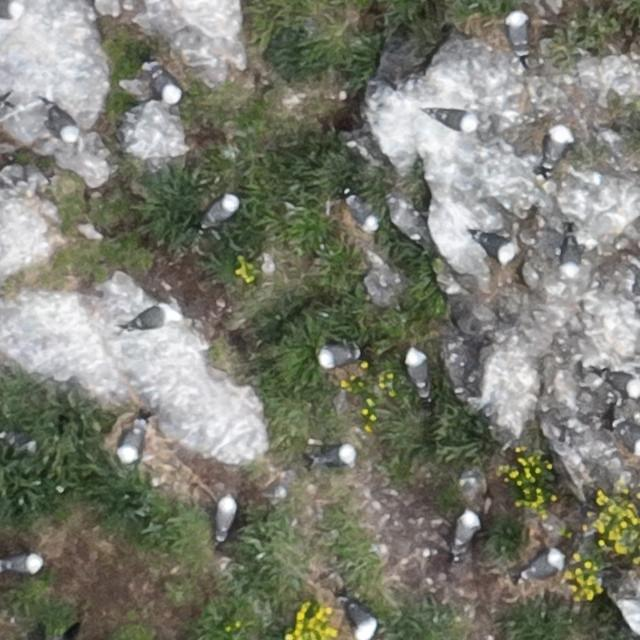umineko: (346, 190, 382, 234), (42, 108, 80, 139), (524, 550, 564, 577), (349, 603, 378, 637), (206, 194, 239, 223), (475, 235, 511, 260), (120, 424, 143, 462), (431, 111, 474, 131), (456, 510, 478, 547), (544, 125, 566, 162), (129, 307, 166, 329), (154, 71, 180, 102), (602, 371, 638, 393), (216, 497, 236, 536), (406, 352, 427, 389), (5, 553, 41, 573), (320, 345, 356, 365), (508, 12, 528, 48), (320, 445, 354, 465), (562, 239, 580, 274), (3, 430, 33, 448)
